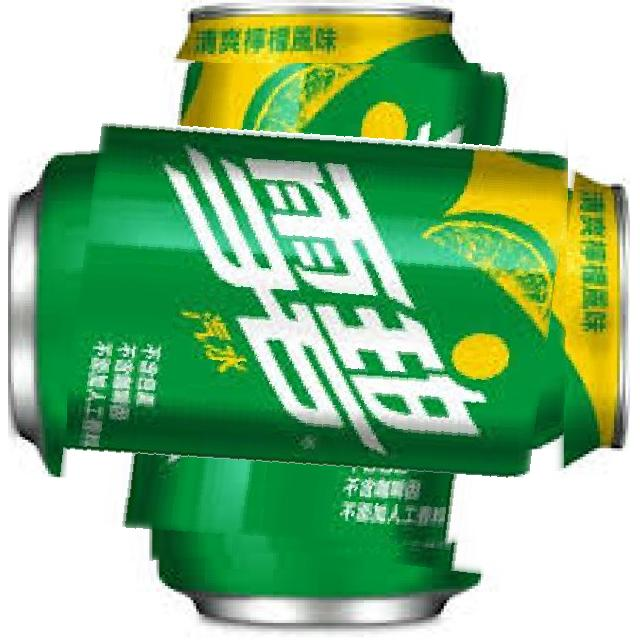recyclable: (67, 63, 570, 566)
